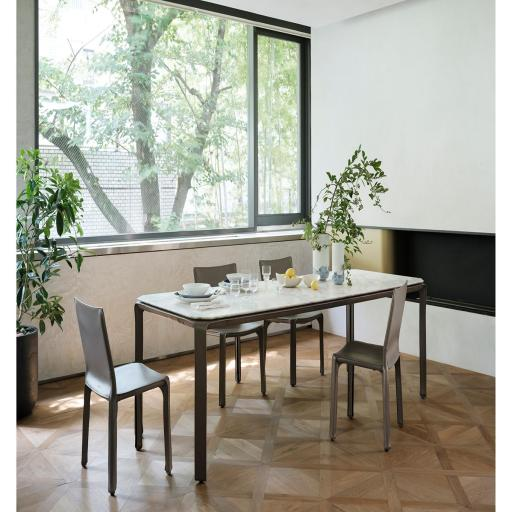table: (134, 258, 426, 443)
